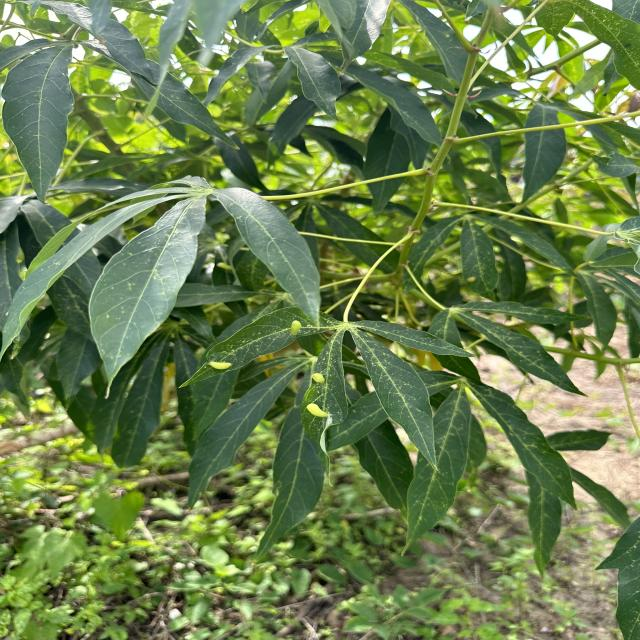Mosca: (204, 354, 247, 377), (304, 398, 335, 427), (309, 363, 331, 391), (286, 316, 307, 344)
